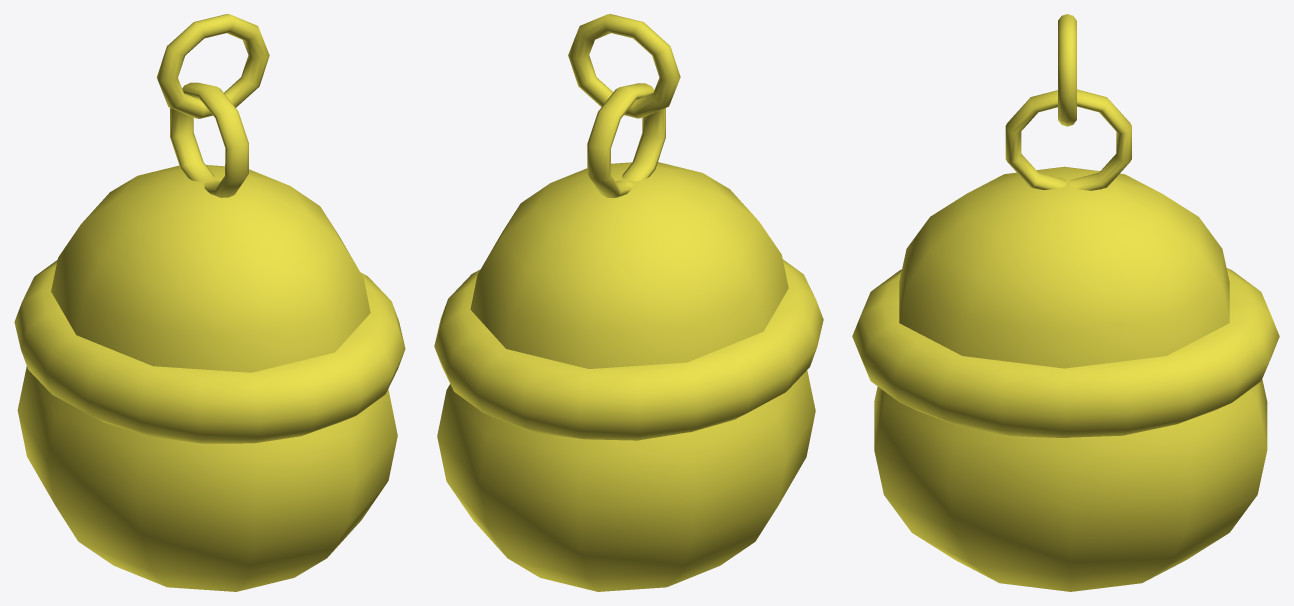
Rendered from bell.fbx.
The picture shows the model from 3 angles, left to right: view 1: azimuth 30°, elevation 25°; view 2: azimuth 150°, elevation 25°; view 3: azimuth 270°, elevation 25°; orthographic projection.
Parts seen in each view (by area): view 1: bell; view 2: bell; view 3: bell.
Boxes of the visible parts, <box> form: bell: <box>14,14,405,591</box>; bell: <box>434,14,823,591</box>; bell: <box>852,14,1279,591</box>.
Bounding box in the file's own units: 0.3315 × 0.5329 × 0.3729.
